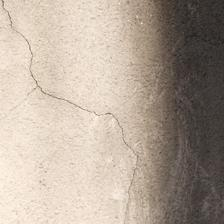Crack: (28, 42, 89, 210), (51, 0, 163, 91)
